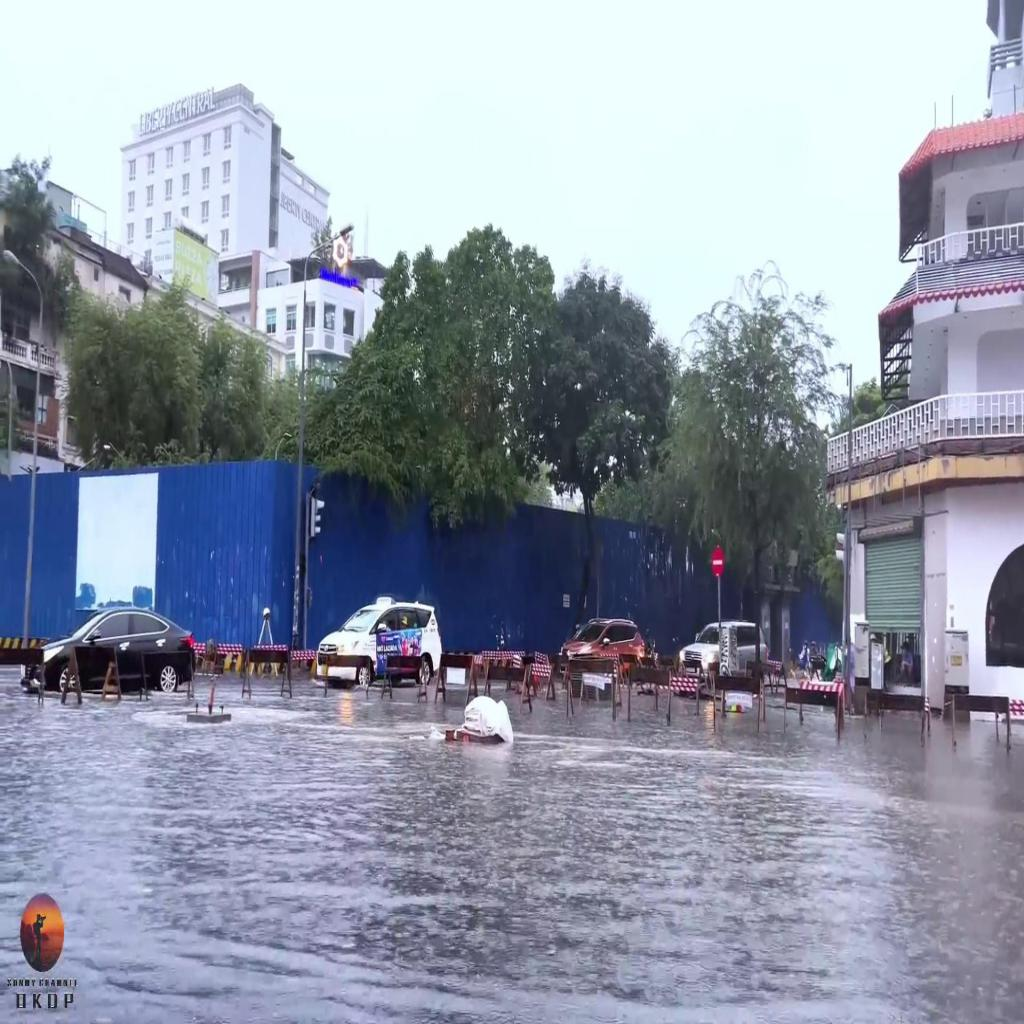cam_xe_di_nguoc_chieu: (712, 548, 724, 577)
